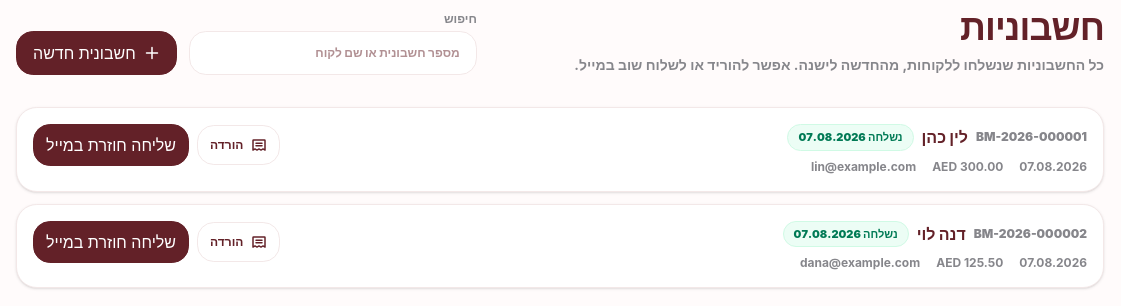
Test case: InvoicesScreen › searches the server by free text and shows only the matching invoice
Type "דנה" into the search field named "חיפוש חשבונית לפי מספר או שם" at [333, 53], box [189,31,477,75]
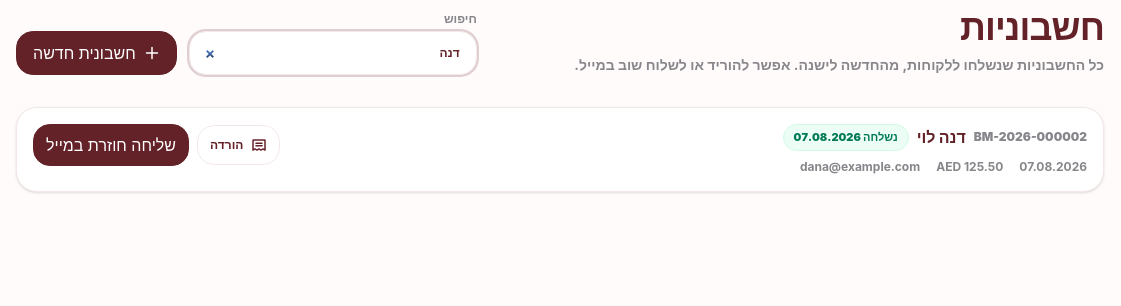
Check: the heading "דנה לוי" is shown, box [917,125,966,149]
Check: the number of list items is 1, box [16,107,1104,192]
Check: the heading "לין כהן" is gone
